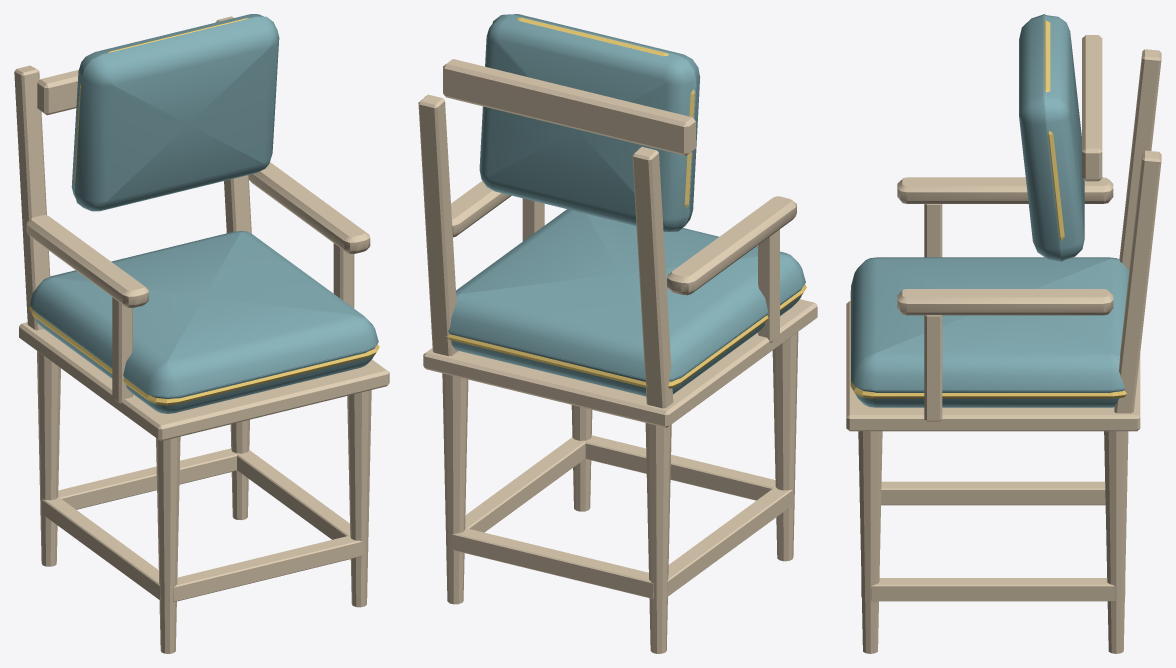
The model's file is clinic-and-veterinary-practice-patient-chair-e364bf45__16740.glb.
The picture shows the model from 3 angles, left to right: view 1: azimuth 30°, elevation 25°; view 2: azimuth 150°, elevation 25°; view 3: azimuth 270°, elevation 25°; orthographic projection. The views are drawn at different scales.
Parts seen in each view (by area): view 1: patient-chair; view 2: patient-chair; view 3: patient-chair.
Boxes of the visible parts, x1=… form: patient-chair: x1=14, y1=14, x2=389, y2=653; patient-chair: x1=418, y1=14, x2=817, y2=653; patient-chair: x1=846, y1=14, x2=1161, y2=653.
Size of the model in its own units: 0.49 by 1.01 by 0.5255.
